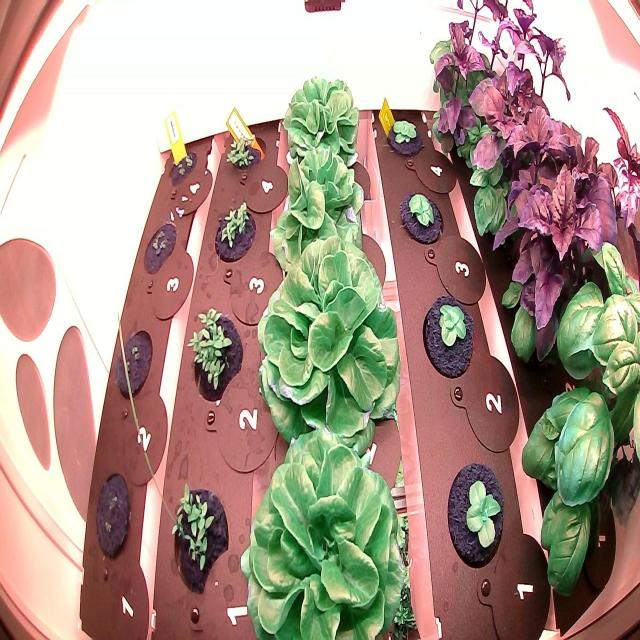Ready: (237, 408, 418, 640), (249, 219, 412, 457)
germination: (162, 466, 237, 600), (181, 295, 251, 422), (91, 466, 139, 568), (111, 316, 159, 405), (208, 195, 259, 270), (220, 122, 270, 191), (138, 209, 184, 282), (165, 136, 204, 196)
young: (266, 132, 372, 274), (276, 59, 364, 172), (441, 454, 516, 577), (417, 282, 482, 388), (396, 182, 448, 254), (382, 98, 432, 169)
